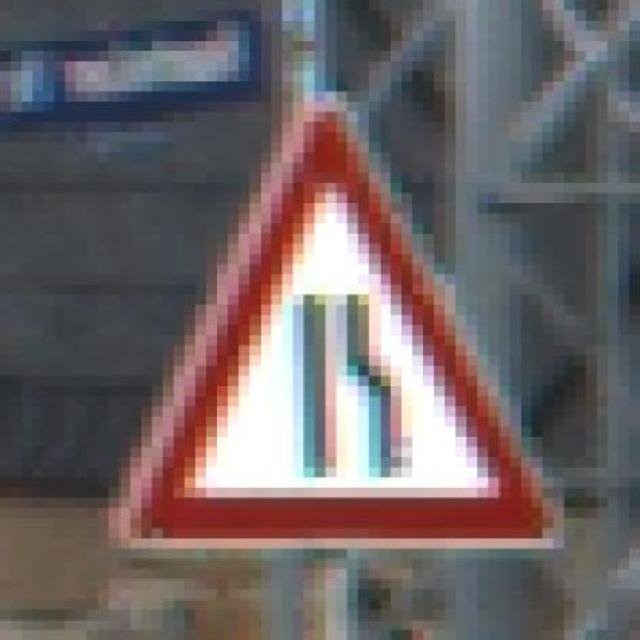-Road narrows on right: (108, 81, 564, 559)
